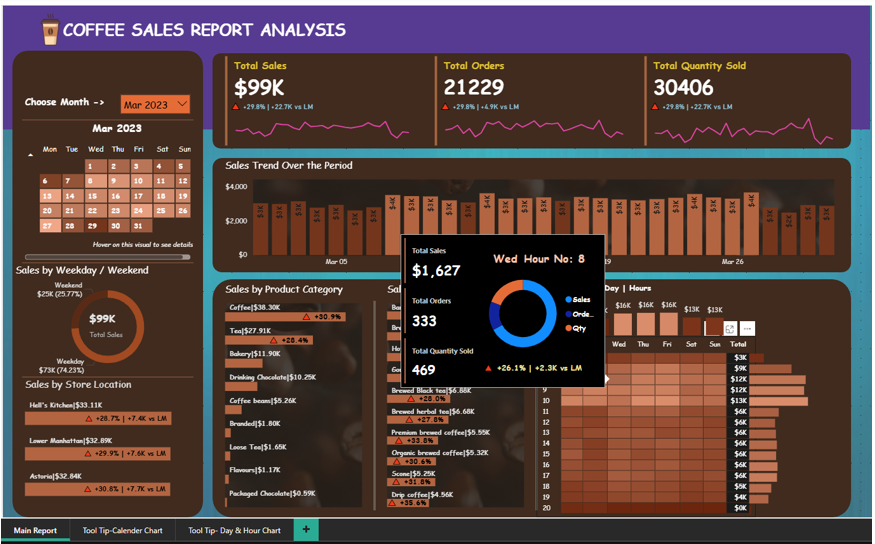

This screenshot's page, from the dashboard's own definition file:
{"tool":"powerbi","page":{"name":"Main Report","canvas":[1460,860],"ordinal":0},"visuals":[{"type":"shape","box":[0,0,1456,208],"z":0},{"type":"shape","box":[16,76,320,784],"z":1000},{"type":"shape","box":[352,80,1072,160],"z":2000},{"type":"textbox","box":[96,16,496,48],"z":3000},{"type":"cardVisual","fields":{"Data":["Transactions.Total Sales","Transactions.Total Sales"]},"box":[368,80,328,160],"z":4000,"group":"g1"},{"type":"cardVisual","fields":{"Data":["Transactions.Total Orders"]},"box":[720,80,336,160],"z":4000,"group":"g2"},{"type":"cardVisual","fields":{"Data":["Transactions.Total Quantity Sold"]},"box":[1072,80,336,160],"z":4000,"group":"g3"},{"type":"slicer","fields":{"Values":["Date Table.Month Year"]},"box":[192,144,128,48],"z":4000},{"type":"group","id":"g1","title":"Group 1","box":[368,80,328,160],"z":5000},{"type":"group","id":"g2","title":"Group 1","box":[720,80,336,160],"z":6000},{"type":"lineChart","fields":{"Category":["Date Table.Date.Variation.Date Hierarchy.Year","Date Table.Date.Variation.Date Hierarchy.Quarter","Date Table.Date.Variation.Date Hierarchy.Month","Date Table.Date.Variation.Date Hierarchy.Day"],"Y":["Transactions.Total Sales"]},"box":[376.6,160,319.4,80],"z":6000,"group":"g1"},{"type":"lineChart","fields":{"Category":["Date Table.Date.Variation.Date Hierarchy.Year","Date Table.Date.Variation.Date Hierarchy.Quarter","Date Table.Date.Variation.Date Hierarchy.Month","Date Table.Date.Variation.Date Hierarchy.Day"],"Y":["Transactions.Total Orders"]},"box":[728.8,160,327.2,80],"z":6000,"group":"g2"},{"type":"lineChart","fields":{"Category":["Date Table.Date.Variation.Date Hierarchy.Year","Date Table.Date.Variation.Date Hierarchy.Quarter","Date Table.Date.Variation.Date Hierarchy.Month","Date Table.Date.Variation.Date Hierarchy.Day"],"Y":["Transactions.Total Quantity Sold"]},"box":[1080.8,160,327.2,80],"z":6000,"group":"g3"},{"type":"group","id":"g3","title":"Group 1","box":[1072,80,336,160],"z":7000},{"type":"shape","box":[352,256,1072,192],"z":8000},{"type":"pivotTable","fields":{"Rows":["Date Table.Week Number"],"Columns":["Date Table.Day Name"],"Values":["Min(Date Table.Day Number)"]},"box":[32,224,288,208],"z":9000},{"type":"cardVisual","fields":{"Data":["Transactions.Foot Note"]},"box":[128,368,208,48],"z":10000},{"type":"card","fields":{"Values":["Min(Date Table.Month Year)"]},"box":[144,192,96,32],"z":11000},{"type":"shape","box":[32,416,288,32],"z":12000},{"type":"shape","box":[32,608,288,32],"z":13000},{"type":"shape","box":[32,176,288,32],"z":14000},{"type":"donutChart","title":"Sales by Weekday / Weekend","fields":{"Category":["Date Table.Weekday / Weekend"],"Y":["Transactions.Total Sales"]},"box":[16,432,320,192],"z":15000},{"type":"cardVisual","fields":{"Data":["Transactions.Total Sales"]},"box":[128,496,96,80],"z":16000},{"type":"clusteredBarChart","title":"Sales by Store Location","fields":{"Category":["Transactions.store_location"],"Y":["Transactions.Placeholder","Transactions.Total Sales"]},"box":[32,624,288,208],"z":17000},{"type":"columnChart","title":"Sales Trend Over the Period","fields":{"Category":["Transactions.transaction_date"],"Y":["Transactions.Total Sales"]},"box":[368,256,1040,192],"z":18000},{"type":"shape","box":[352,460,1072,400],"z":19000},{"type":"clusteredBarChart","title":"Sales by Product Category","fields":{"Y":["Transactions.Placeholder","Transactions.Total Sales"],"Category":["Transactions.product_category"]},"box":[368,464,240,384],"z":20000},{"type":"shape","box":[608,496,32,352],"z":21000},{"type":"clusteredBarChart","title":"Sales by Product Type","fields":{"Y":["Transactions.Placeholder","Transactions.Total Sales"],"Category":["Transactions.product_type"]},"box":[640,464,240,384],"z":22000},{"type":"shape","box":[880,496,32,352],"z":23000},{"type":"pivotTable","fields":{"Rows":["Transactions.Hour"],"Columns":["Date Table.Day Name"],"Values":["Transactions.Total Sales"]},"box":[896,556,368,304],"z":24000},{"type":"barChart","fields":{"Category":["Transactions.Hour"],"Y":["Transactions.Total Sales"]},"box":[1248,572,128,288],"z":25000},{"type":"columnChart","title":"Sales by Day | Hours","fields":{"Y":["Transactions.Total Sales"],"Category":["Date Table.Day Name"]},"box":[944,464,272,96],"z":26000},{"type":"textbox","box":[32,144,160,48],"z":27000},{"type":"image","box":[48,0,64,80],"z":28000}]}

Visuals, with their boxes on the page's 1460x860 design canvas (x1, y1, x2, y2). These are canvas units, not pixel positions in the 875x544 screenshot, which may show the page scaled, cropped or inside an application window:
shape: <region>0, 0, 1456, 208</region>
shape: <region>16, 76, 336, 860</region>
shape: <region>352, 80, 1424, 240</region>
textbox: <region>96, 16, 592, 64</region>
cardVisual - Transactions.Total Sales x Transactions.Total Sales: <region>368, 80, 696, 240</region>
cardVisual - Transactions.Total Orders: <region>720, 80, 1056, 240</region>
cardVisual - Transactions.Total Quantity Sold: <region>1072, 80, 1408, 240</region>
slicer - Date Table.Month Year: <region>192, 144, 320, 192</region>
"Group 1" group: <region>368, 80, 696, 240</region>
"Group 1" group: <region>720, 80, 1056, 240</region>
lineChart - Date Table.Date.Variation.Date Hierarchy.Year x Date Table.Date.Variation.Date Hierarchy.Quarter: <region>377, 160, 696, 240</region>
lineChart - Date Table.Date.Variation.Date Hierarchy.Year x Date Table.Date.Variation.Date Hierarchy.Quarter: <region>729, 160, 1056, 240</region>
lineChart - Date Table.Date.Variation.Date Hierarchy.Year x Date Table.Date.Variation.Date Hierarchy.Quarter: <region>1081, 160, 1408, 240</region>
"Group 1" group: <region>1072, 80, 1408, 240</region>
shape: <region>352, 256, 1424, 448</region>
pivotTable - Date Table.Week Number x Date Table.Day Name: <region>32, 224, 320, 432</region>
cardVisual - Transactions.Foot Note: <region>128, 368, 336, 416</region>
card - Min(Date Table.Month Year): <region>144, 192, 240, 224</region>
shape: <region>32, 416, 320, 448</region>
shape: <region>32, 608, 320, 640</region>
shape: <region>32, 176, 320, 208</region>
"Sales by Weekday / Weekend" donutChart: <region>16, 432, 336, 624</region>
cardVisual - Transactions.Total Sales: <region>128, 496, 224, 576</region>
"Sales by Store Location" clusteredBarChart: <region>32, 624, 320, 832</region>
"Sales Trend Over the Period" columnChart: <region>368, 256, 1408, 448</region>
shape: <region>352, 460, 1424, 860</region>
"Sales by Product Category" clusteredBarChart: <region>368, 464, 608, 848</region>
shape: <region>608, 496, 640, 848</region>
"Sales by Product Type" clusteredBarChart: <region>640, 464, 880, 848</region>
shape: <region>880, 496, 912, 848</region>
pivotTable - Transactions.Hour x Date Table.Day Name: <region>896, 556, 1264, 860</region>
barChart - Transactions.Hour x Transactions.Total Sales: <region>1248, 572, 1376, 860</region>
"Sales by Day | Hours" columnChart: <region>944, 464, 1216, 560</region>
textbox: <region>32, 144, 192, 192</region>
image: <region>48, 0, 112, 80</region>
